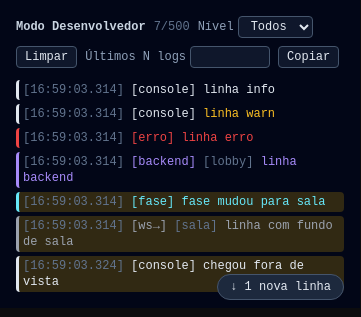
painel — auto-scroll condicional, pill e contador › scrolado para cima: pill aparece, contador do buffer reflete e o clique rola
Click the button with test id "pill-novas-linhas" at coordinates (281, 287), box [217,274,344,300]
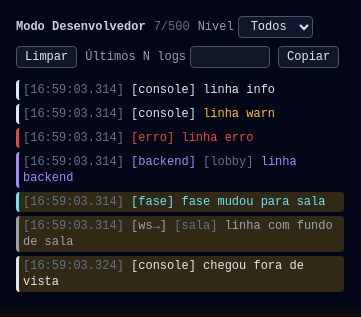
Result: the button with test id "pill-novas-linhas" is gone
